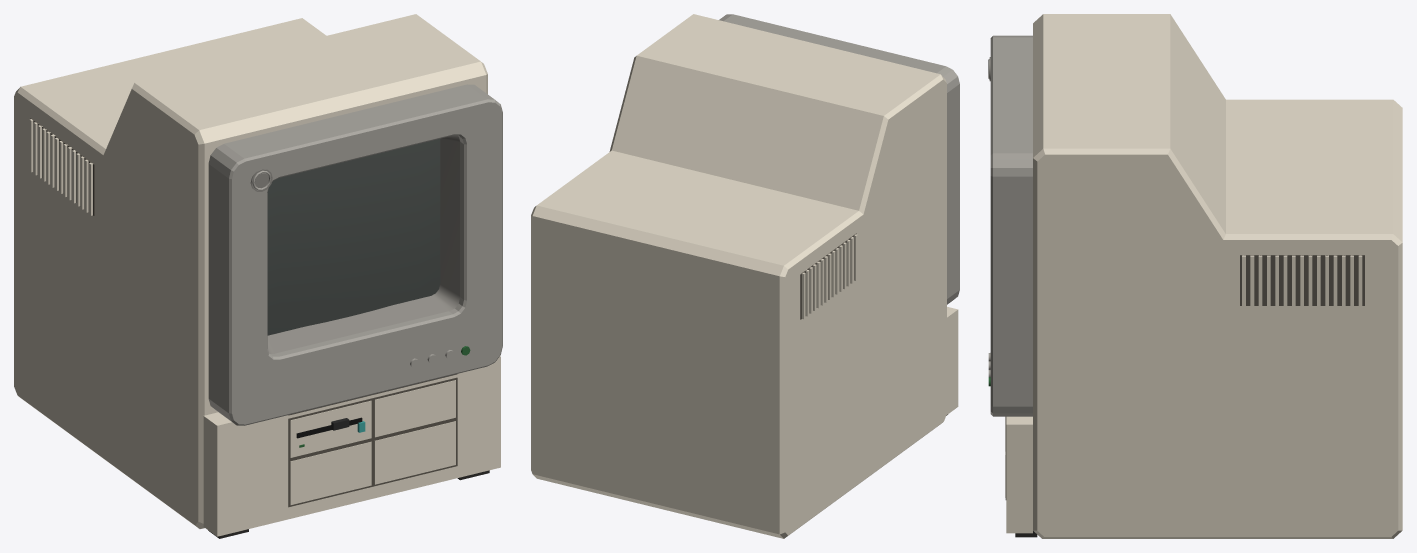
Rendered from grace-computer.glb.
3 renders of one model, left to right at view 1: azimuth 30°, elevation 25°; view 2: azimuth 150°, elevation 25°; view 3: azimuth 270°, elevation 25°, orthographic. The views are drawn at different scales.
Visible parts, largest first — view 1: case shell, bezel, screen, front plinth, screen funnel, bay door left, bay door right, blank bay upper, floppy drive face, drive bay well, side vent band left; view 2: case shell, bezel, front plinth, side vent band left; view 3: case shell, bezel, side vent band right, front plinth.
Boxes of the visible parts, bbox=[...] form: case shell: bbox=[14, 14, 487, 528]; bezel: bbox=[208, 84, 502, 425]; screen: bbox=[267, 139, 440, 335]; front plinth: bbox=[203, 356, 500, 536]; screen funnel: bbox=[267, 135, 459, 353]; bay door left: bbox=[290, 441, 371, 505]; bay door right: bbox=[374, 421, 455, 484]; blank bay upper: bbox=[374, 380, 455, 437]; floppy drive face: bbox=[290, 400, 371, 457]; drive bay well: bbox=[288, 377, 457, 507]; side vent band left: bbox=[30, 118, 94, 215]; case shell: bbox=[531, 14, 946, 538]; bezel: bbox=[719, 14, 959, 304]; front plinth: bbox=[946, 307, 958, 415]; side vent band left: bbox=[800, 233, 856, 319]; case shell: bbox=[1033, 14, 1402, 538]; bezel: bbox=[990, 35, 1032, 416]; side vent band right: bbox=[1240, 255, 1364, 305]; front plinth: bbox=[1006, 416, 1032, 533].
Bounding box in the file's own units: 0.301 × 0.389 × 0.3732.
